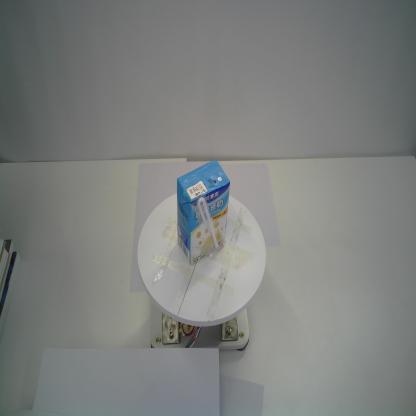Milk: (176, 158, 230, 265)
